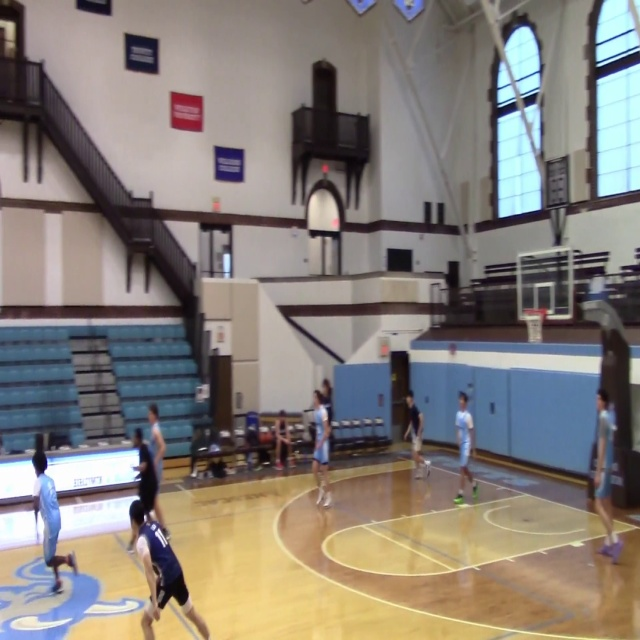Basketball: (321, 164, 329, 173)
